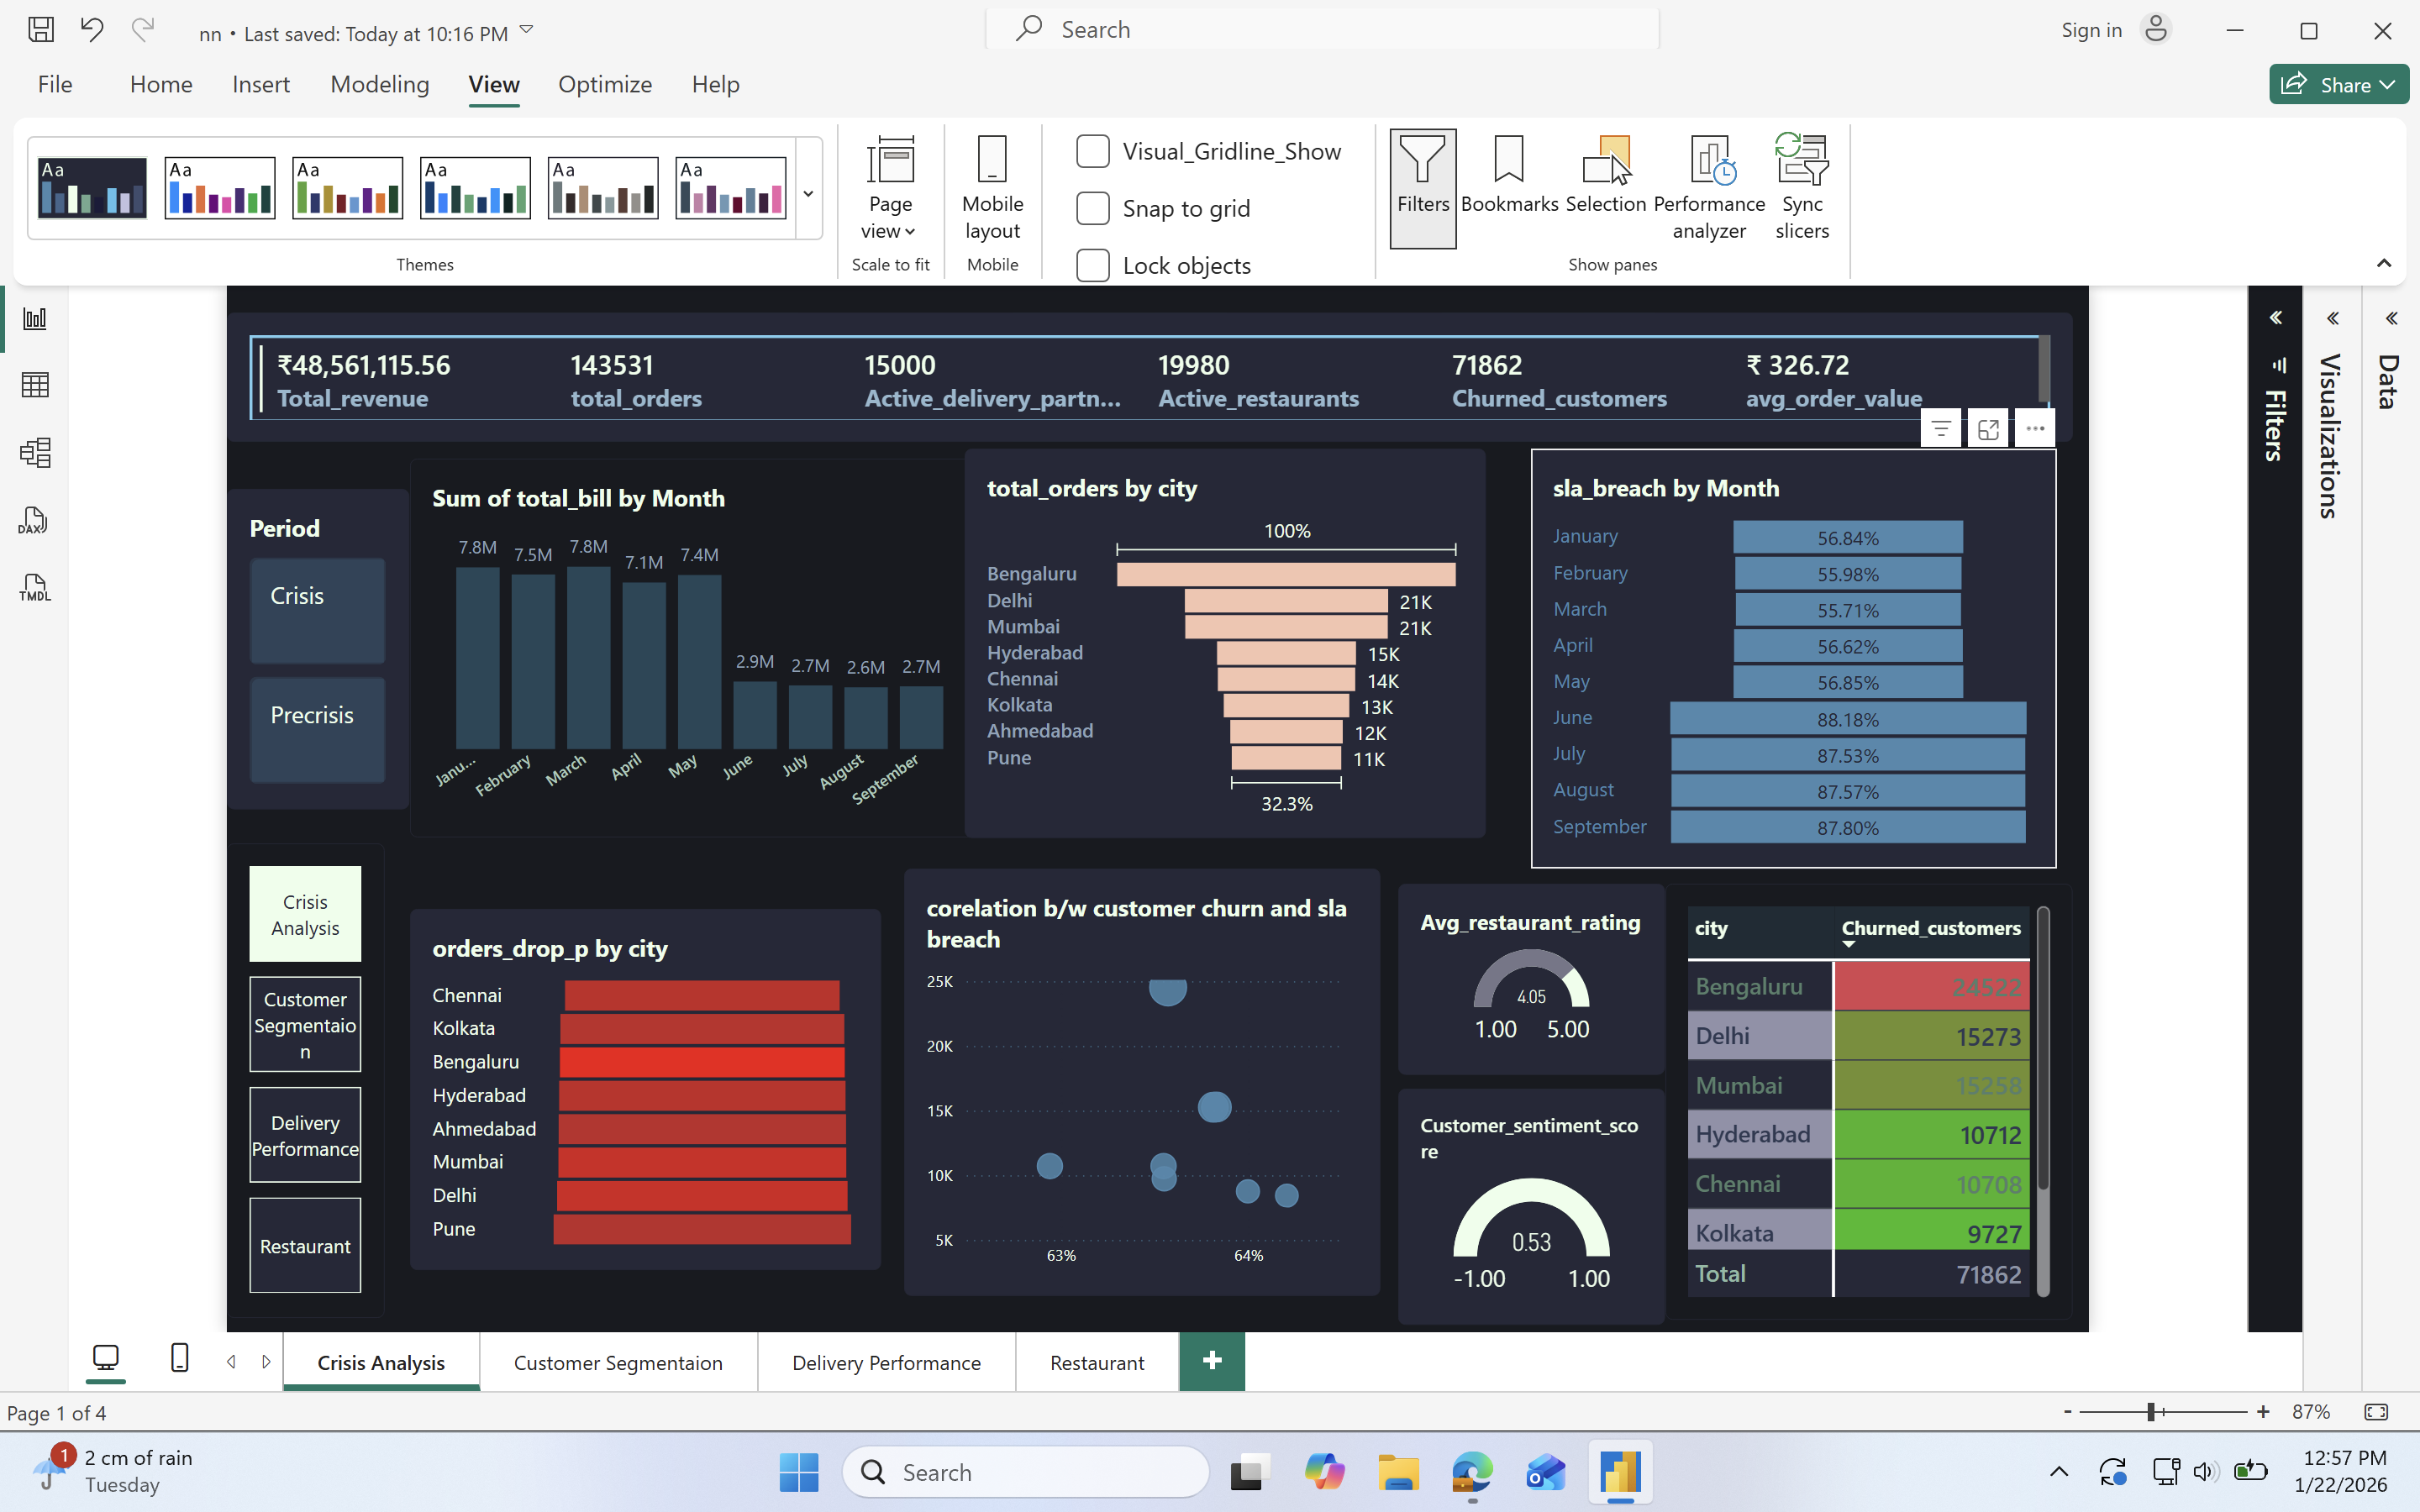

What the dashboard file says about the page in this screenshot:
{"tool":"powerbi","page":{"name":"Crisis Analysis","canvas":[1280,720],"ordinal":0},"visuals":[{"type":"columnChart","fields":{"Category":["orders.order_date.Variation.Date Hierarchy.Month"],"Y":["Sum(orders.total_bill)"]},"box":[125.6,119.4,398.1,260.3],"z":0},{"type":"multiRowCard","fields":{"Values":["dim_customer.Total_revenue","fact_order_items.total_orders","dim_customer.Active_delivery_partners","dim_customer.Active_restaurants","dim_customer.Churned_customers","dim_customer.avg_order_value"]},"box":[0,18.4,1269.3,88.8],"z":1000},{"type":"funnel","fields":{"Y":["fact_order_items.total_orders"],"Category":["dim_restaurant.city"]},"box":[506.8,111.8,358.3,267.9],"z":2000},{"type":"gauge","title":"Avg_restaurant_rating","fields":{"MinValue":["Min(fact_ratings.rating)"],"MaxValue":["Max(fact_ratings.rating)1"],"Y":["Avg(fact_ratings.rating)2"]},"box":[805.4,411.9,183.7,131.7],"z":3000},{"type":"pivotTable","fields":{"Rows":["dim_restaurant.city"],"Values":["dim_customer.Churned_customers"]},"box":[989.1,411.9,280.2,300.1],"z":4000},{"type":"gauge","title":"Customer_sentiment_score","fields":{"MaxValue":["Max(fact_ratings.sentiment_score)"],"MinValue":["Min(fact_ratings.sentiment_score)1"],"Y":["Avg(fact_ratings.sentiment_score)2"]},"box":[805.4,552.7,183.7,162.3],"z":5000},{"type":"advancedSlicerVisual","fields":{"Values":["orders.Period"]},"box":[0,139.3,125.6,220.5],"z":6000},{"type":"funnel","fields":{"Category":["dim_restaurant.city"],"Y":["dim_customer.orders_drop_p"]},"box":[126.2,411.8,323.8,265.2],"z":7000},{"type":"pageNavigator","box":[0,383.7,108.4,326.4],"z":8000},{"type":"funnel","fields":{"Category":["orders.order_date.Variation.Date Hierarchy.Month"],"Y":["dim_customer.sla_breach"]},"box":[897.2,111.8,361.3,289.4],"z":9000},{"type":"scatterChart","title":"corelation b/w customer churn and sla breach","fields":{"X":["dim_customer.sla_breach"],"Size":["dim_customer.Churned_customers"],"Category":["dim_restaurant.city"],"Y":["dim_customer.Churned_customers"]},"box":[465.5,401.1,327.7,294],"z":10000}]}

Visuals, with their boxes on the page's 1280x720 design canvas (x1, y1, x2, y2). These are canvas units, not pixel positions in the 2420x1512 screenshot, which may show the page scaled, cropped or inside an application window:
columnChart - orders.order_date.Variation.Date Hierarchy.Month x Sum(orders.total_bill): <bbox>126, 119, 524, 380</bbox>
multiRowCard - dim_customer.Total_revenue x fact_order_items.total_orders: <bbox>0, 18, 1269, 107</bbox>
funnel - fact_order_items.total_orders x dim_restaurant.city: <bbox>507, 112, 865, 380</bbox>
"Avg_restaurant_rating" gauge: <bbox>805, 412, 989, 544</bbox>
pivotTable - dim_restaurant.city x dim_customer.Churned_customers: <bbox>989, 412, 1269, 712</bbox>
"Customer_sentiment_score" gauge: <bbox>805, 553, 989, 715</bbox>
advancedSlicerVisual - orders.Period: <bbox>0, 139, 126, 360</bbox>
funnel - dim_restaurant.city x dim_customer.orders_drop_p: <bbox>126, 412, 450, 677</bbox>
pageNavigator: <bbox>0, 384, 108, 710</bbox>
funnel - orders.order_date.Variation.Date Hierarchy.Month x dim_customer.sla_breach: <bbox>897, 112, 1258, 401</bbox>
"corelation b/w customer churn and sla breach" scatterChart: <bbox>466, 401, 793, 695</bbox>
